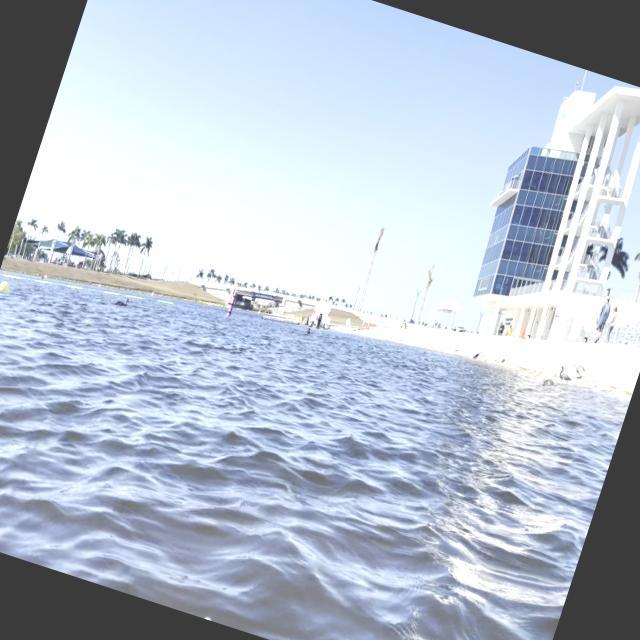buoy: (0, 277, 12, 296)
